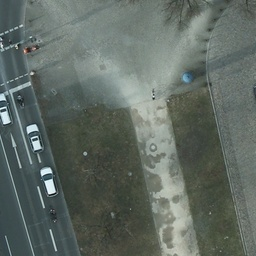car: (25, 125, 46, 154), (41, 166, 58, 197), (0, 92, 14, 126)
